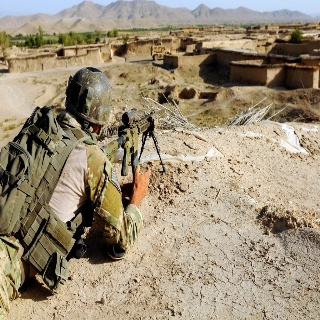shotgun: (95, 109, 168, 178)
